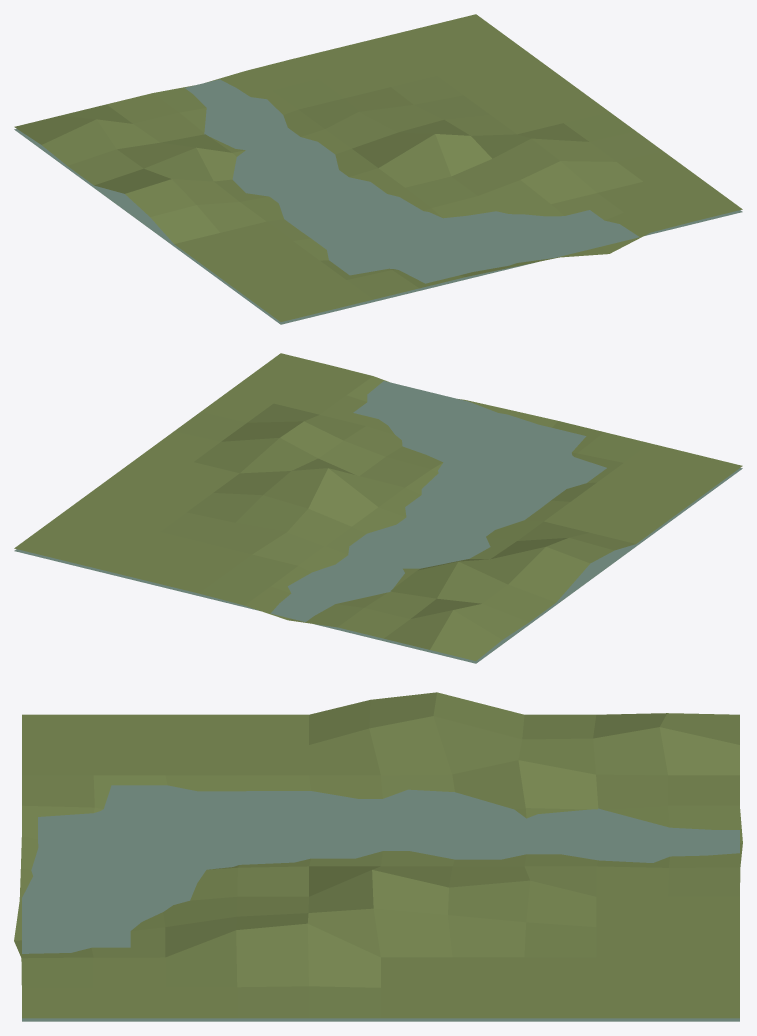
Rendered from surface_noraycast.glb.
The picture shows the model from 3 angles, top to bottom: view 1: azimuth 30°, elevation 25°; view 2: azimuth 150°, elevation 25°; view 3: azimuth 270°, elevation 25°; orthographic projection. The views are drawn at different scales.
Visible parts, largest first — view 1: Grid, Grid.001; view 2: Grid, Grid.001; view 3: Grid, Grid.001.
Part boxes in pixels (box(x1,y1,x2,y2)): Grid: box(14, 14, 742, 321); Grid.001: box(14, 79, 742, 324); Grid: box(14, 353, 742, 660); Grid.001: box(14, 381, 742, 663); Grid: box(14, 692, 742, 1018); Grid.001: box(22, 785, 739, 1021).
Bounding box in the file's own units: 100 × 8.78 × 102.
